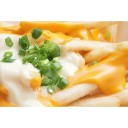frenchfries: (2, 21, 128, 105)
